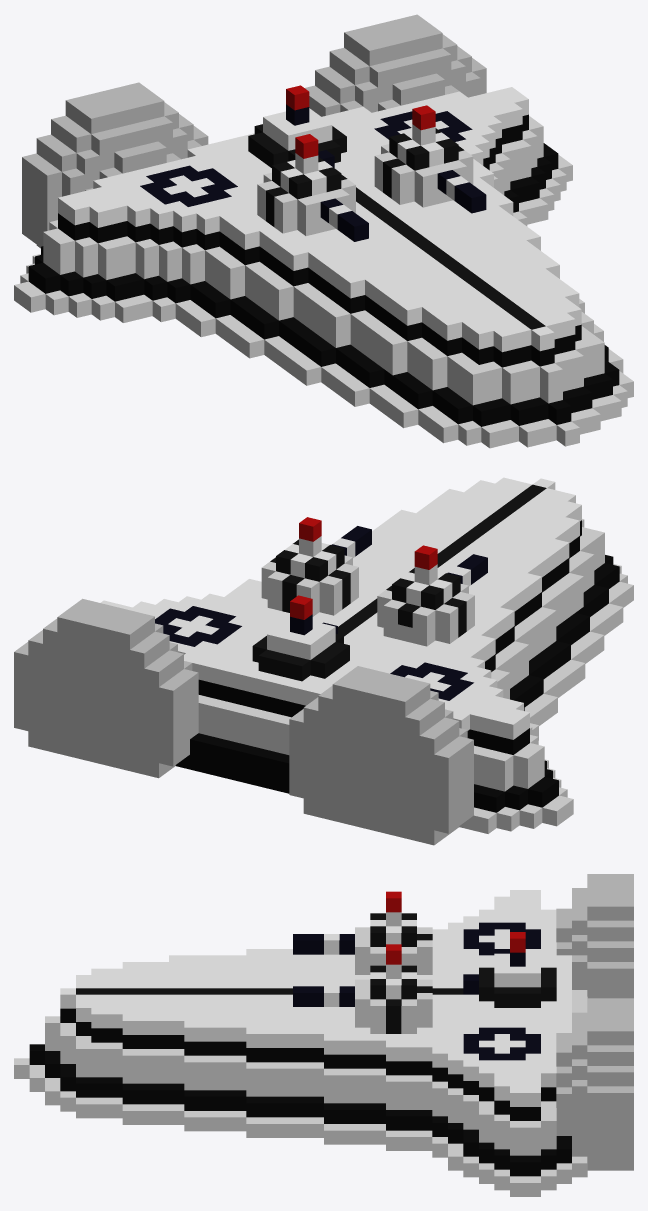
File: spaceship.obj
3 views of the same model, one above another, from view 1: azimuth 30°, elevation 25°; view 2: azimuth 150°, elevation 25°; view 3: azimuth 270°, elevation 25° (orthographic). The views are drawn at different scales.
Bounding box in the file's own units: 3.7 × 1.1 × 4.
